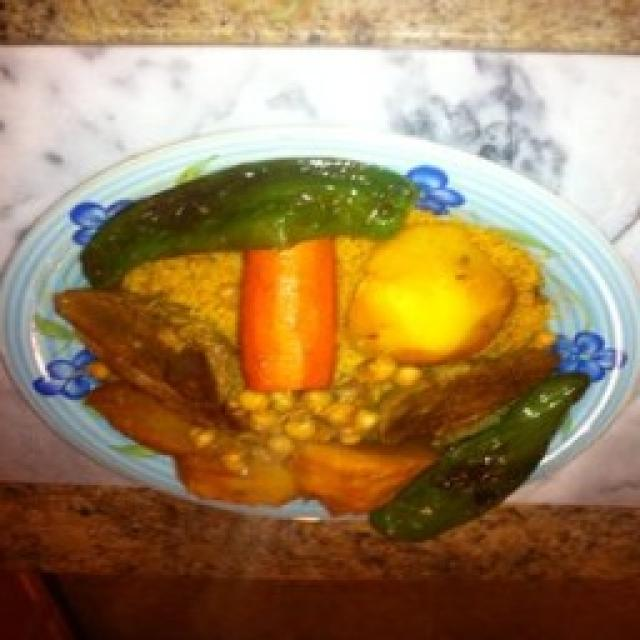Couscous: (55, 210, 550, 510)
